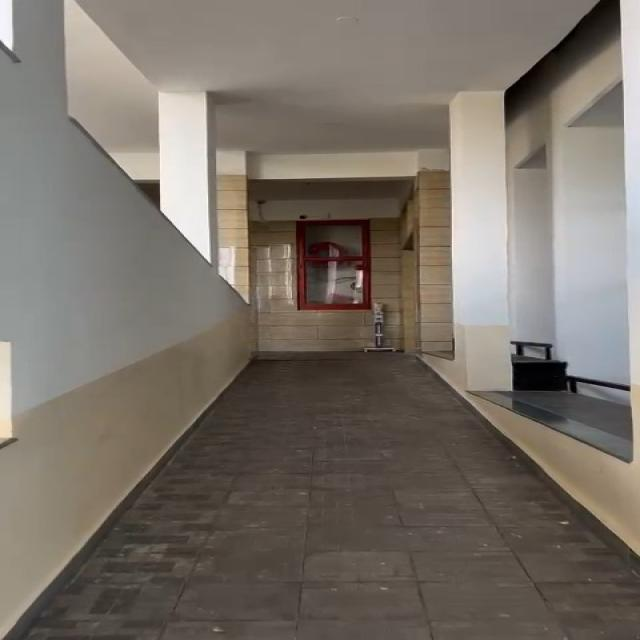floor: (131, 483, 640, 640), (267, 355, 437, 486)
wall: (0, 1, 276, 397), (382, 95, 640, 418)
